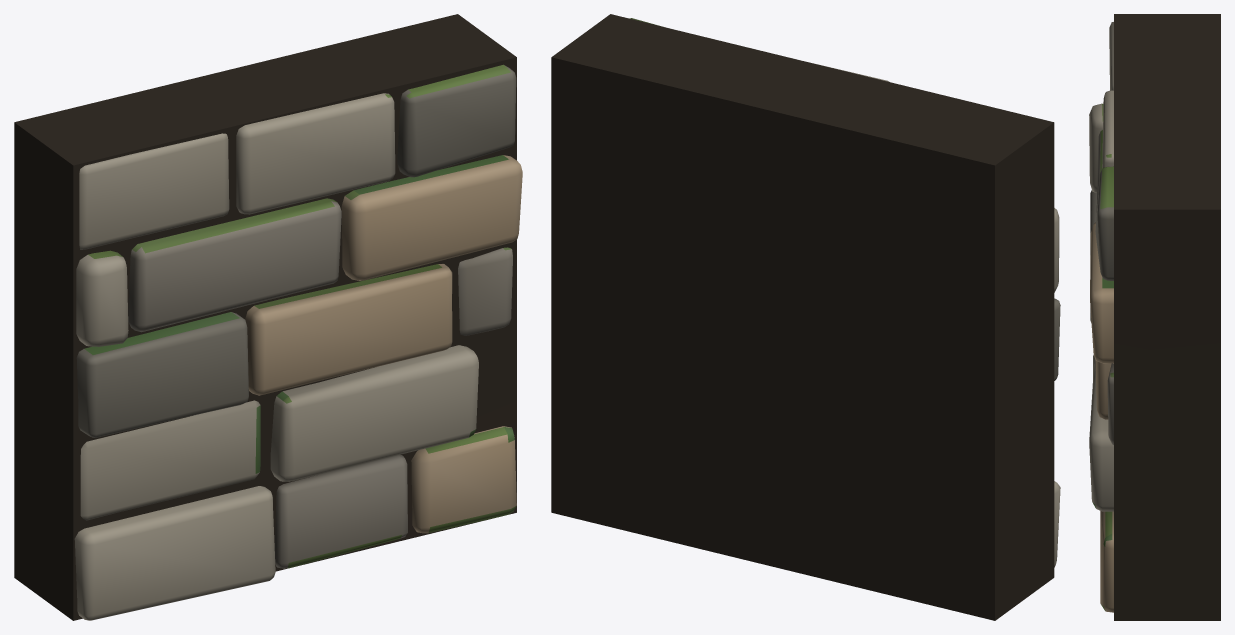
File: kit_wall2.glb
The picture shows the model from 3 angles, left to right: view 1: azimuth 30°, elevation 25°; view 2: azimuth 150°, elevation 25°; view 3: azimuth 270°, elevation 25°; orthographic projection. The views are drawn at different scales.
Visible parts, largest first — view 1: kit_wall2; view 2: kit_wall2; view 3: kit_wall2.
Part boxes in pixels (<box>): kit_wall2: <box>14,14,522,620</box>; kit_wall2: <box>551,14,1060,620</box>; kit_wall2: <box>1089,14,1220,620</box>.
Size of the model in its own units: 1.04 by 1.02 by 0.2959.
